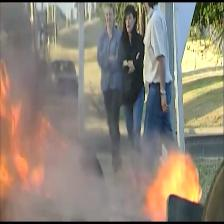fire: (0, 49, 64, 210), (148, 134, 209, 220)
smoke: (50, 103, 161, 221), (0, 0, 83, 94)
